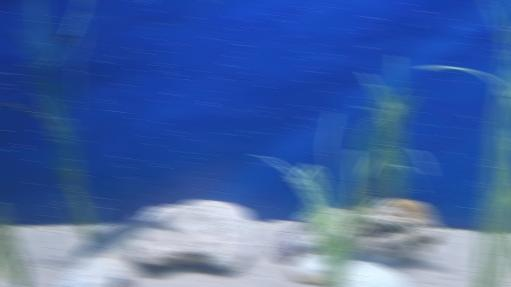Fish: (73, 210, 180, 258)
